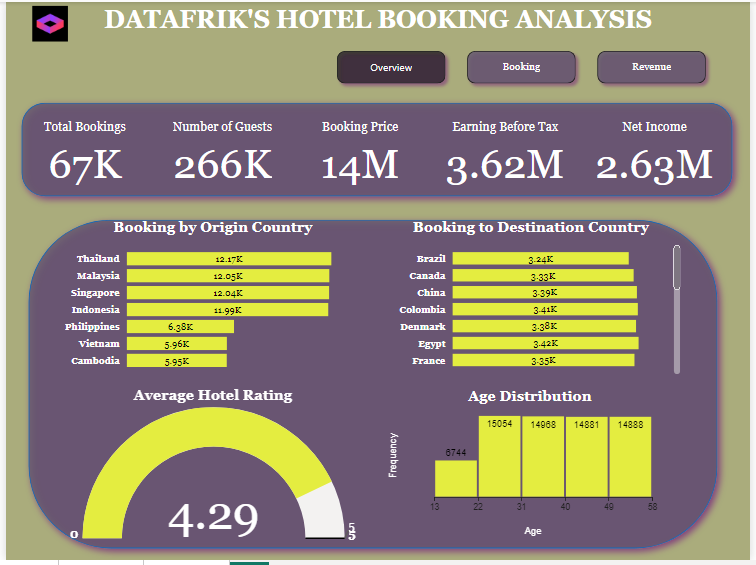

The dashboard page shown, as its layout file describes it:
{"tool":"powerbi","page":{"name":"Overview","canvas":[960,720],"ordinal":0},"visuals":[{"type":"shape","box":[14.2,265.8,918.7,454.2],"z":0},{"type":"shape","box":[5.2,114.8,947.1,151],"z":1000},{"type":"textbox","box":[0,0,960,55.7],"z":2000},{"type":"image","box":[12.9,0,88.6,55.7],"z":3000},{"type":"cardVisual","fields":{"Data":["Hotel_Booking.Total Booking"]},"box":[14.2,134.2,175.5,113.5],"z":4000},{"type":"cardVisual","fields":{"Data":["Hotel_Booking.# Guests"]},"box":[192.6,134.2,174.2,113.5],"z":5000},{"type":"cardVisual","fields":{"Data":["Hotel_Booking.Total Booking Price"]},"box":[369.7,134.2,176.8,113.5],"z":6000},{"type":"cardVisual","fields":{"Data":["Hotel_Booking.Total Earning Before Tax"]},"box":[549.4,134.2,189.7,113.5],"z":7000},{"type":"cardVisual","fields":{"Data":["Hotel_Booking.Total Net Income"]},"box":[741.9,134.2,191,113.5],"z":8000},{"type":"bookmarkNavigator","box":[418.1,54.2,494.2,60.6],"z":9000},{"type":"barChart","title":"Booking by Origin Country","fields":{"Category":["Hotel_Booking.Origin Country"],"Y":["Hotel_Booking.Total Booking"]},"box":[69.7,280,394.8,205.2],"z":10000},{"type":"barChart","title":"Booking to Destination Country","fields":{"Y":["Hotel_Booking.Total Booking"],"Category":["Hotel_Booking.Destination Country"]},"box":[480,280,394.8,205.2],"z":11000},{"type":"Histogram1445664487616","title":"Age Distribution","fields":{"Values":["Hotel_Booking.Age"],"Frequency":["Hotel_Booking.Total Booking"]},"box":[478.7,498.1,394.8,205.2],"z":12000},{"type":"gauge","title":"Average Hotel Rating","fields":{"MinValue":["Hotel_Booking.Min Hotel Rating"],"MaxValue":["Hotel_Booking.Max Hotel Rating"],"Y":["Hotel_Booking.Avg Hotel Rating"],"TargetValue":["Hotel_Booking.Target Hotel Rating"]},"box":[69.7,496.8,394.8,205.2],"z":13000}]}

Visuals, with their boxes in screenshot pixels (x1, y1, x2, y2), scaled from the page's 960x720 canvas onto the 756x565 screenshot:
shape: <region>11, 209, 735, 564</region>
shape: <region>4, 90, 750, 209</region>
textbox: <region>0, 0, 755, 44</region>
image: <region>10, 0, 80, 44</region>
cardVisual - Hotel_Booking.Total Booking: <region>11, 105, 149, 194</region>
cardVisual - Hotel_Booking.# Guests: <region>152, 105, 289, 194</region>
cardVisual - Hotel_Booking.Total Booking Price: <region>291, 105, 430, 194</region>
cardVisual - Hotel_Booking.Total Earning Before Tax: <region>433, 105, 582, 194</region>
cardVisual - Hotel_Booking.Total Net Income: <region>584, 105, 735, 194</region>
bookmarkNavigator: <region>329, 43, 718, 90</region>
"Booking by Origin Country" barChart: <region>55, 220, 366, 381</region>
"Booking to Destination Country" barChart: <region>378, 220, 689, 381</region>
"Age Distribution" Histogram1445664487616: <region>377, 391, 688, 552</region>
"Average Hotel Rating" gauge: <region>55, 390, 366, 551</region>
